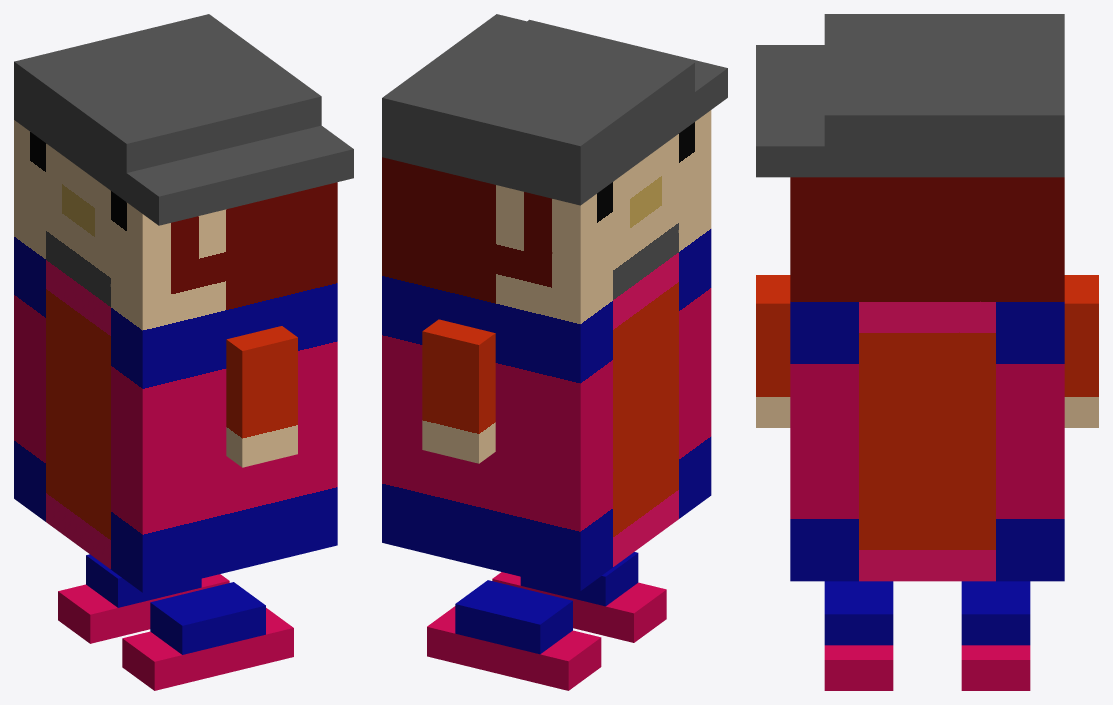
Rendered from Player_17.fbx.
3 renders of one model, left to right at view 1: azimuth 30°, elevation 25°; view 2: azimuth 150°, elevation 25°; view 3: azimuth 270°, elevation 25°, orthographic. The views are drawn at different scales.
Visible parts, largest first — view 1: Main, LeftFoot, LeftHand, RightFoot; view 2: Main, RightFoot, RightHand, LeftFoot; view 3: Main, LeftFoot, RightFoot, RightHand, LeftHand.
Part boxes in pixels (x1=…): Main: x1=14, y1=14, x2=353, y2=592; LeftFoot: x1=122, y1=582, x2=293, y2=690; LeftHand: x1=226, y1=326, x2=297, y2=467; RightFoot: x1=58, y1=554, x2=229, y2=643; Main: x1=382, y1=14, x2=727, y2=590; RightFoot: x1=427, y1=580, x2=601, y2=690; RightHand: x1=422, y1=319, x2=495, y2=463; LeftFoot: x1=492, y1=552, x2=666, y2=642; Main: x1=756, y1=14, x2=1064, y2=581; LeftFoot: x1=824, y1=581, x2=893, y2=690; RightFoot: x1=961, y1=581, x2=1030, y2=690; RightHand: x1=1064, y1=275, x2=1098, y2=427; LeftHand: x1=756, y1=275, x2=790, y2=427.
Size of the model in its own units: 7 by 19 by 10.
1 material, 1 textured.
